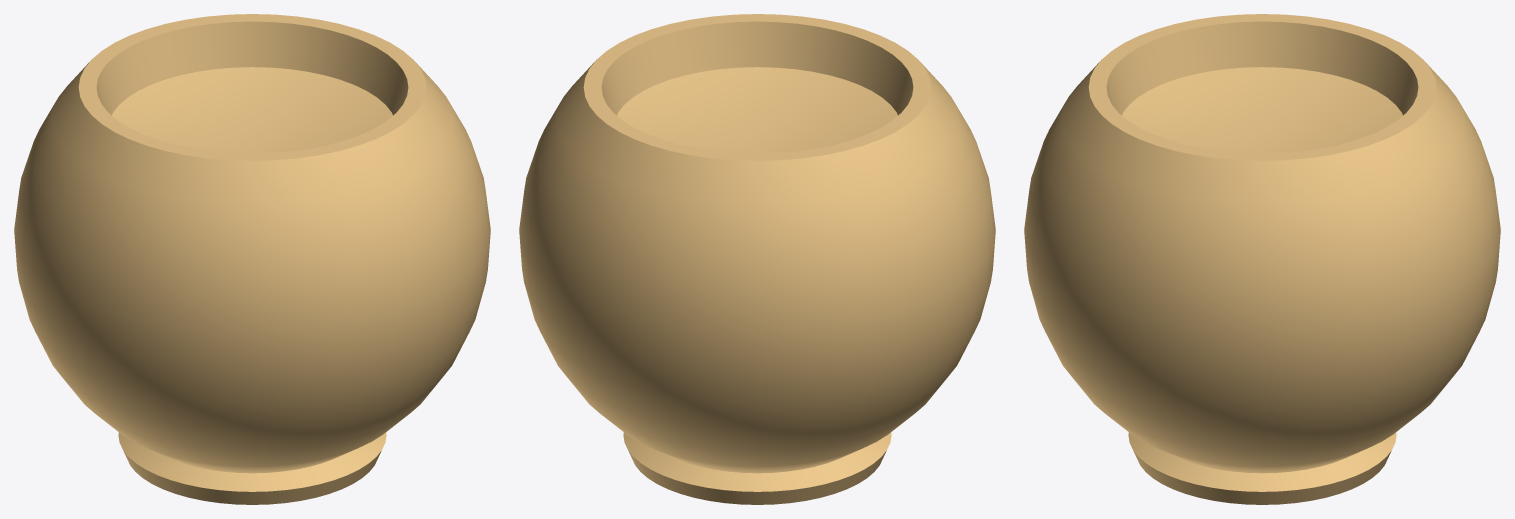
Rendered from JAC_15_Vaso_Orquidea.glb.
3 views of the same model, side by side, from view 1: azimuth 30°, elevation 25°; view 2: azimuth 150°, elevation 25°; view 3: azimuth 270°, elevation 25° (orthographic).
Visible parts, largest first — view 1: JAC_15_Vaso_Orquidea; view 2: JAC_15_Vaso_Orquidea; view 3: JAC_15_Vaso_Orquidea.
Boxes of the visible parts, left/top/right/bottom form: JAC_15_Vaso_Orquidea: left=14, top=14, right=490, bottom=504; JAC_15_Vaso_Orquidea: left=519, top=14, right=995, bottom=504; JAC_15_Vaso_Orquidea: left=1024, top=14, right=1500, bottom=504.
Size of the model in its own units: 0.3199 by 0.2695 by 0.3199.
